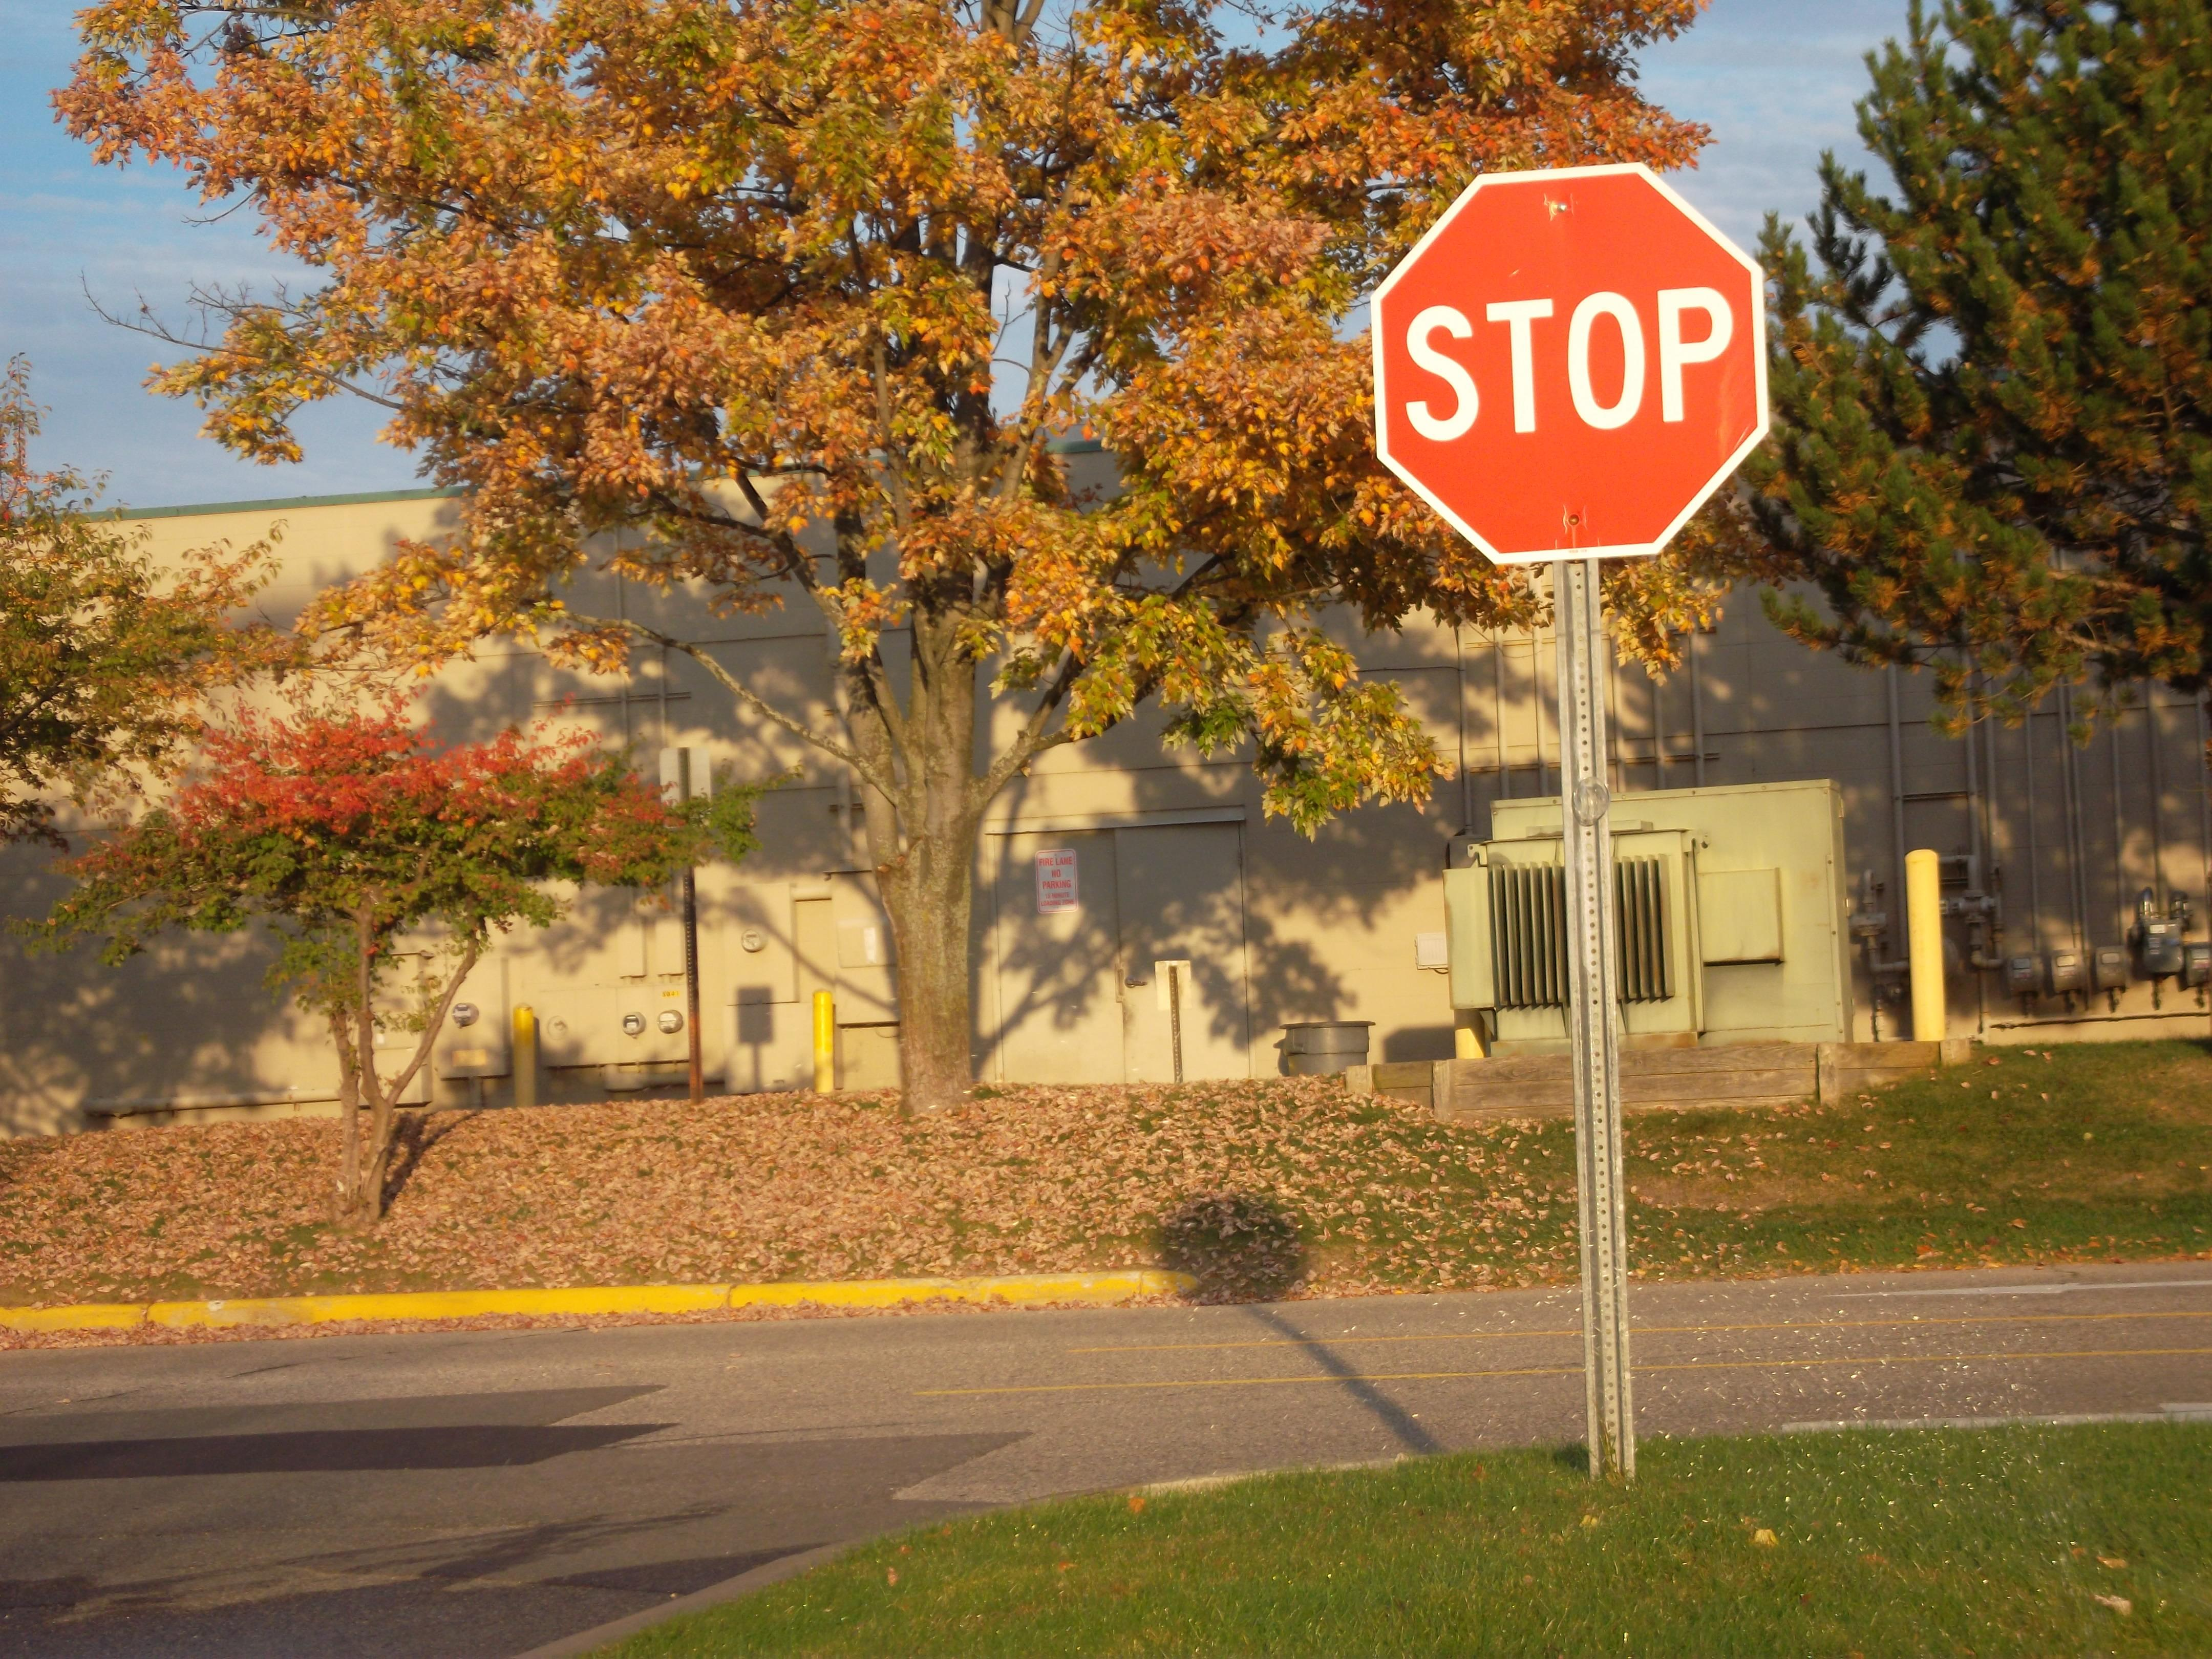stop: (1372, 160, 1771, 565)
